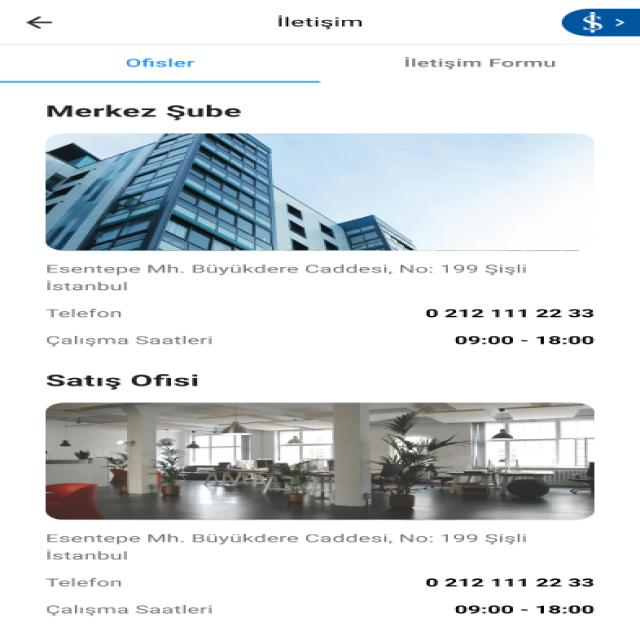QLabel: (44, 531, 531, 546), (40, 262, 529, 276), (40, 102, 244, 121), (41, 372, 200, 390), (388, 55, 562, 70), (43, 604, 219, 618), (422, 576, 595, 590), (422, 307, 594, 320), (44, 334, 215, 347), (270, 13, 368, 31), (452, 334, 598, 345), (453, 604, 597, 615), (43, 548, 135, 562), (41, 279, 130, 293), (114, 56, 200, 70), (43, 307, 125, 321), (43, 576, 124, 590)
VAppBar: (0, 0, 639, 45)
VIcon: (20, 14, 58, 32)
VImg: (44, 402, 595, 522), (44, 133, 594, 252), (561, 9, 637, 37)
VTab: (13, 52, 308, 77), (335, 52, 630, 77)
VTabs: (0, 46, 640, 85)
